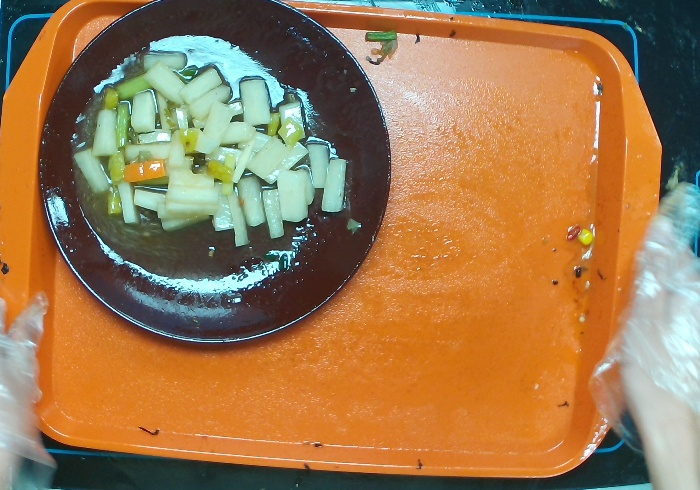HZYJPL-Ka_Fei_Yuan_Pan: (30, 1, 401, 354)
